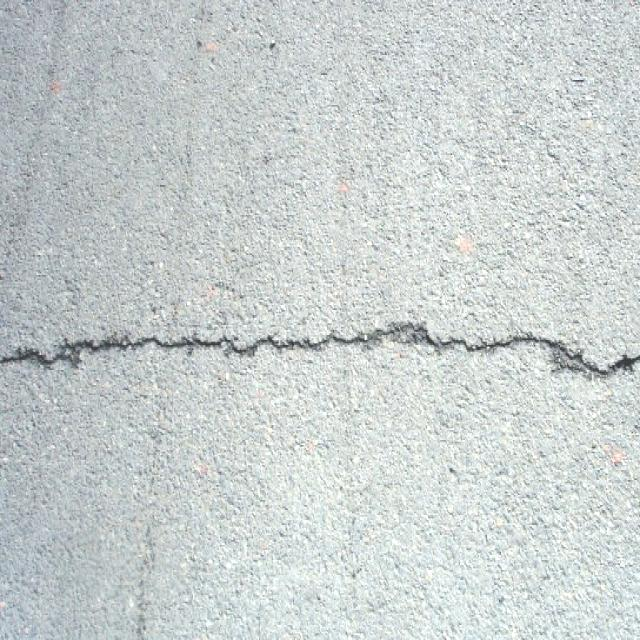crack: (1, 314, 638, 388)
